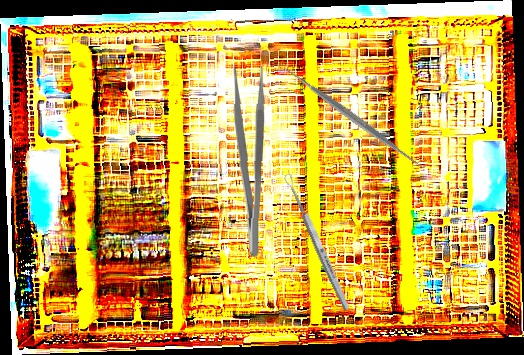Dressing Forceps: (228, 64, 267, 258)
Spatula Surgical: (275, 57, 430, 178)
Surgical Spoon: (282, 172, 352, 312)
